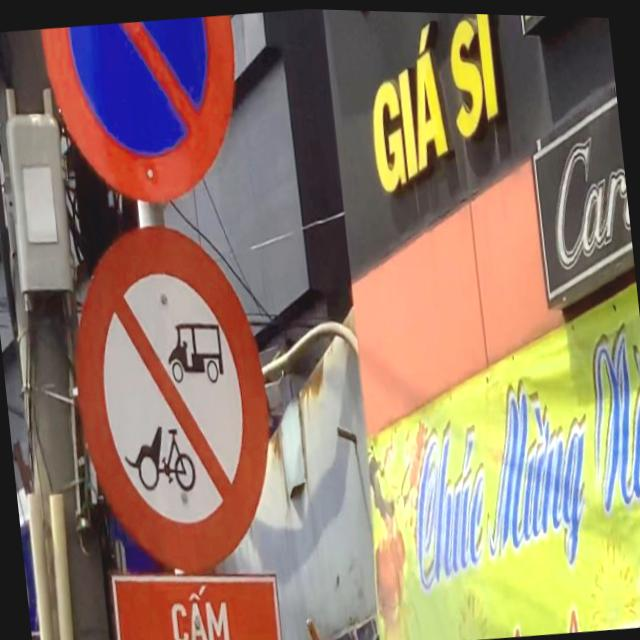Cam do xe: (37, 9, 250, 221)
